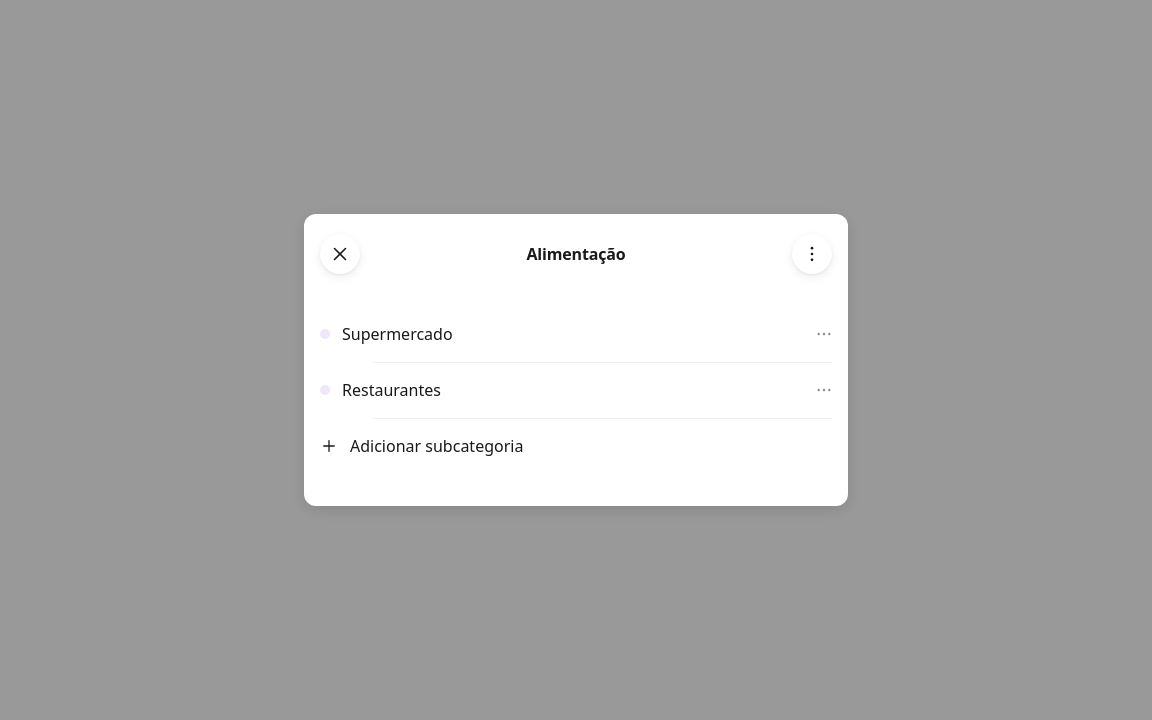
Modal de um grupo de categorias › renomeia uma subcategoria em linha
Expected: the text "Supermercado" is shown, 342,323 -> 453,345
Click the button named "Opções de Supermercado" at (824, 334), box 808,318 -> 840,350
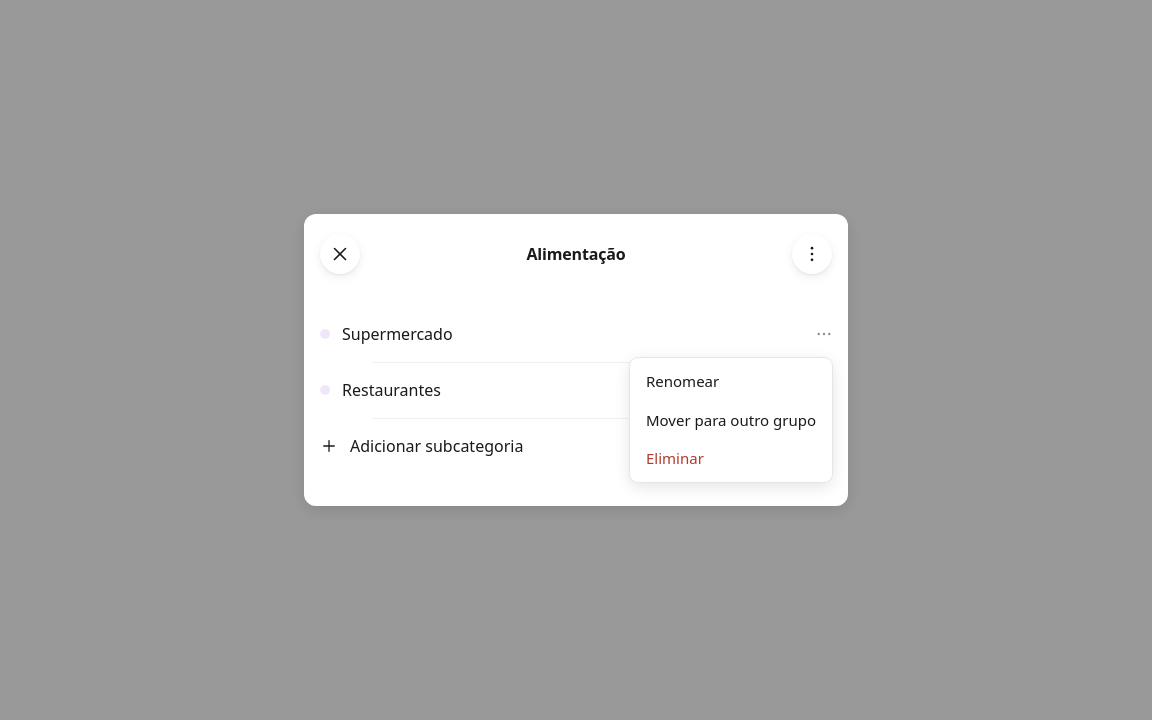
Click the menu item "Renomear" at (731, 381), box 634,362 -> 828,400
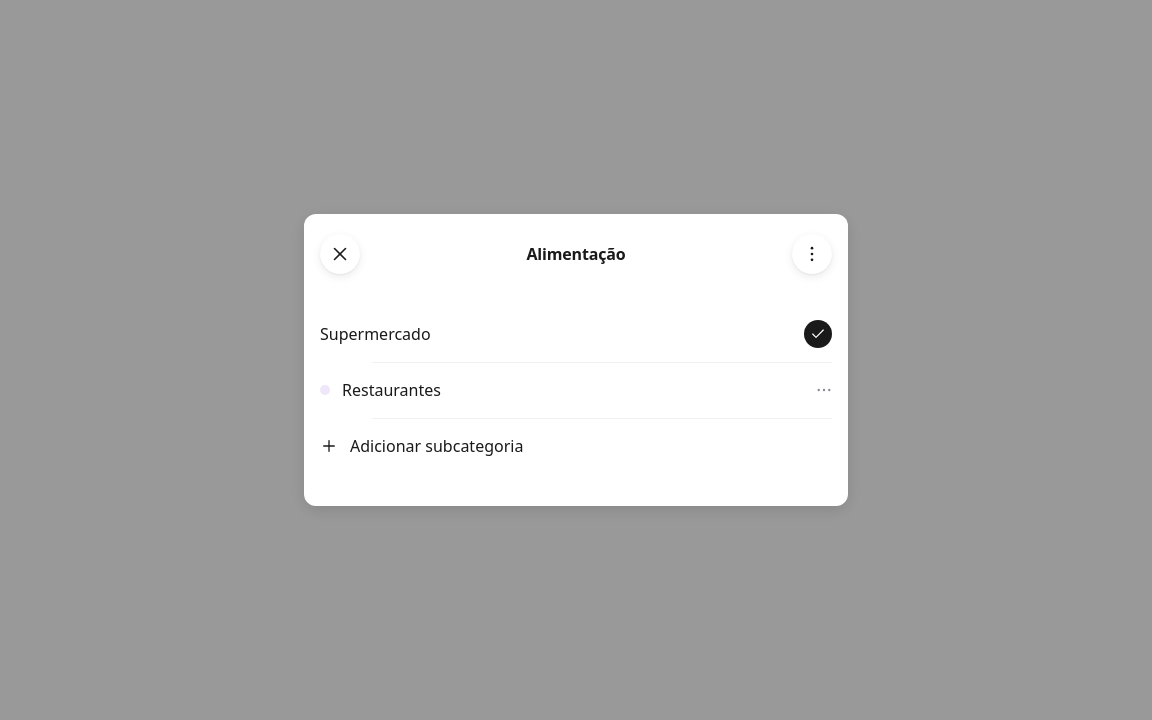
Replace the text in the field showing "Supermercado" with "Compras do mês" at (556, 334), box 320,322 -> 792,346
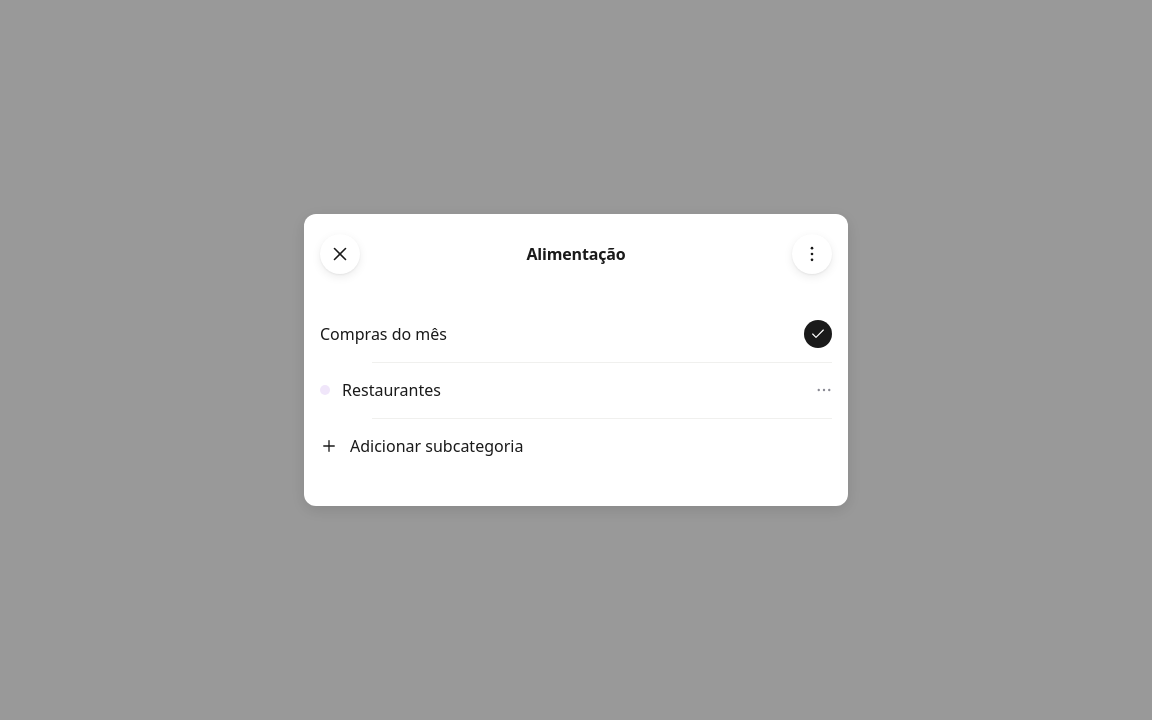
Click the button named "Confirmar" at (818, 334), box 804,320 -> 832,348
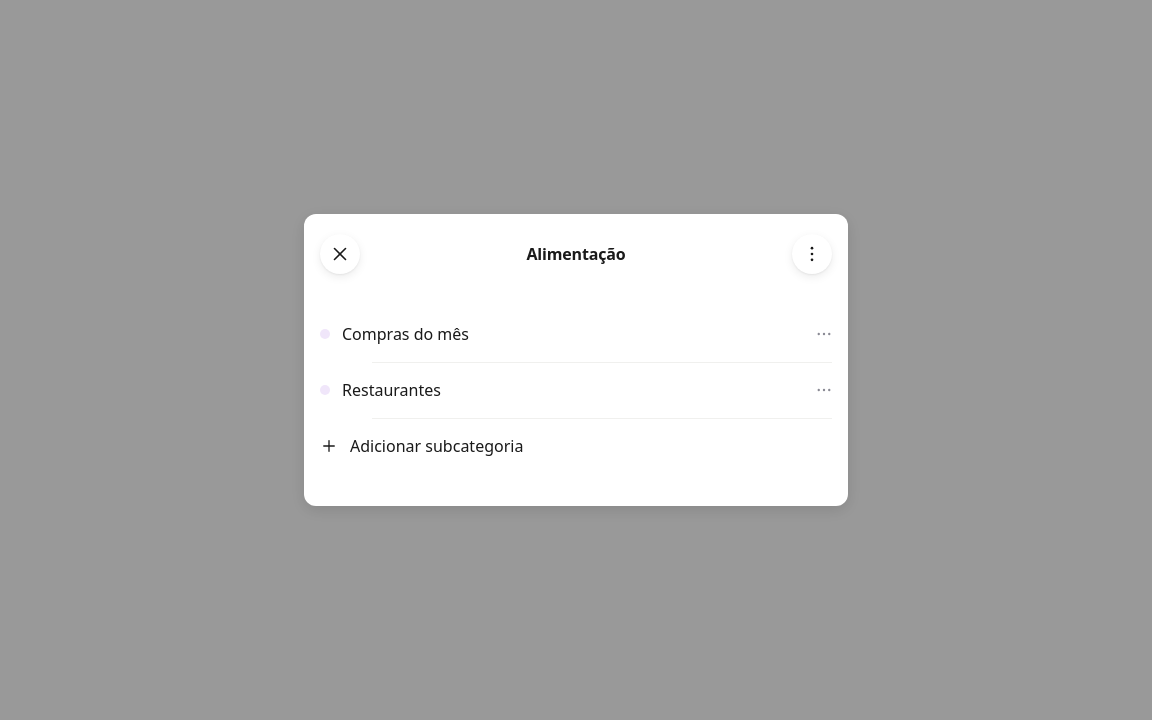
Expected: the text "Supermercado" is not shown
Expected: the text "Compras do mês" is shown, 342,323 -> 469,345
